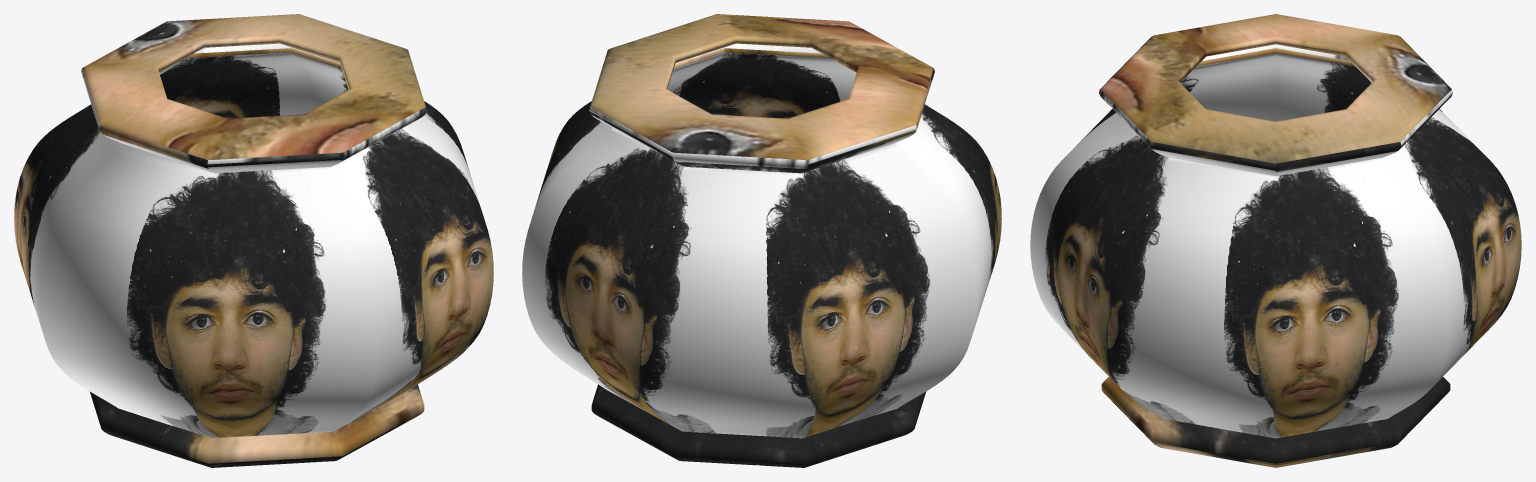
File: vase-2-main.glb
3 views of the same model, side by side, from view 1: azimuth 30°, elevation 25°; view 2: azimuth 150°, elevation 25°; view 3: azimuth 270°, elevation 25° (orthographic).
Visible parts, largest first — view 1: vase-base.001; view 2: vase-base.001; view 3: vase-base.001.
Part boxes in pixels (<box>): vase-base.001: <box>14,14,493,467</box>; vase-base.001: <box>522,14,1001,467</box>; vase-base.001: <box>1030,14,1521,467</box>.
Bounding box in the file's own units: 13.77 × 9.99 × 13.78.
Materials: 1 (1 with a texture image).
